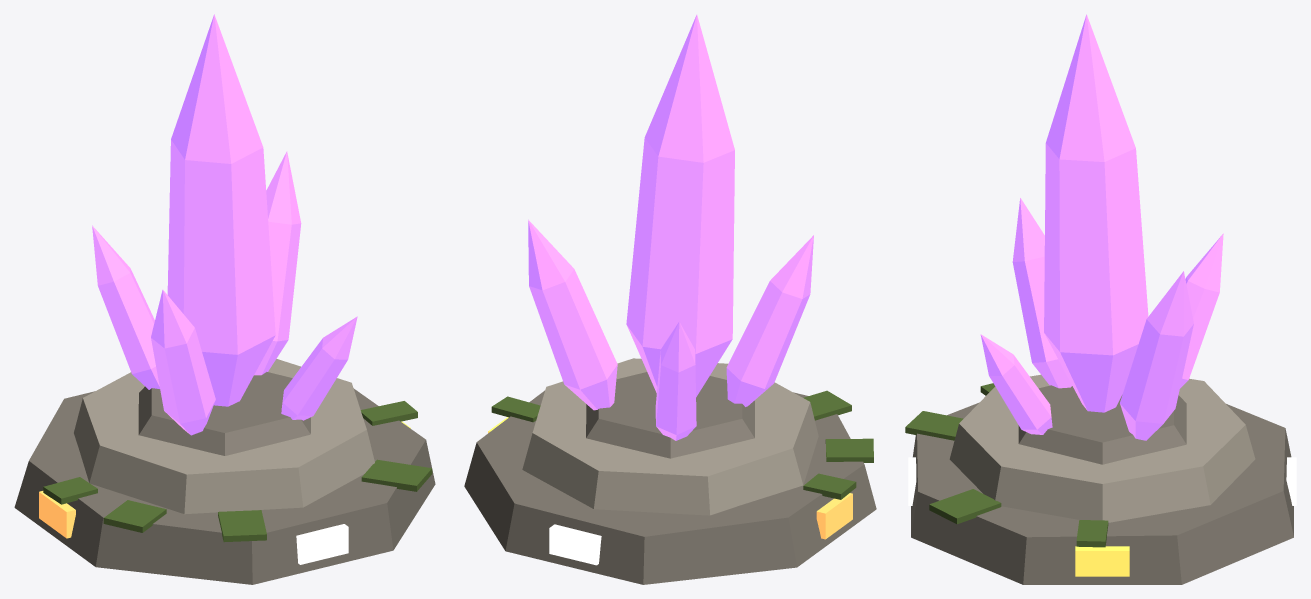
The model's file is Nexus.fbx.
3 views of the same model, side by side, from view 1: azimuth 30°, elevation 25°; view 2: azimuth 150°, elevation 25°; view 3: azimuth 270°, elevation 25° (orthographic). The views are drawn at different scales.
Visible parts, largest first — view 1: Nexus; view 2: Nexus; view 3: Nexus.
Boxes of the visible parts, bbox=[...] form: Nexus: bbox=[14, 14, 435, 584]; Nexus: bbox=[464, 14, 876, 584]; Nexus: bbox=[905, 14, 1296, 584].
Bounding box in the file's own units: 3.12 × 4.09 × 3.02.
